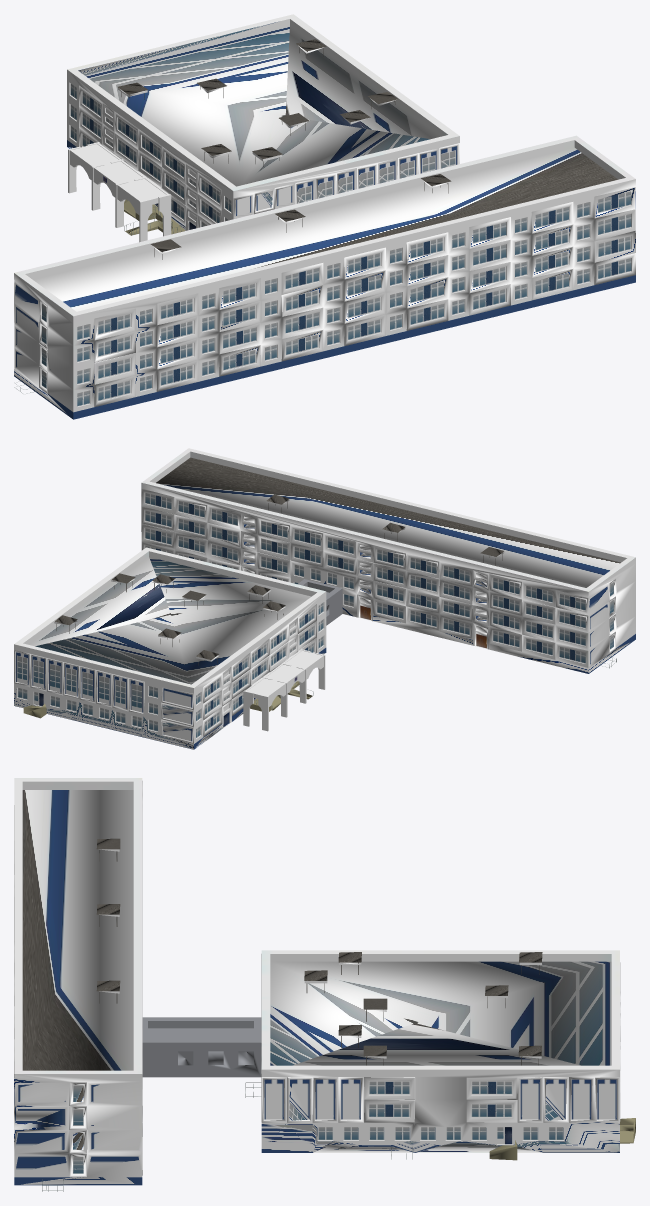
Rendered from school.lod0.glb.
3 renders of one model, top to bottom at view 1: azimuth 30°, elevation 25°; view 2: azimuth 150°, elevation 25°; view 3: azimuth 270°, elevation 25°, orthographic. The views are drawn at different scales.
Visible parts, largest first — view 1: Object_4, Object_7, Object_10, Object_9, Object_3; view 2: Object_4, Object_7, Object_10, Object_9, Object_3; view 3: Object_7, Object_4, Object_3, Object_9.
Boxes of the visible parts, left/top/right/bottom form: Object_4: left=14, top=135, right=635, bottom=419; Object_7: left=67, top=14, right=459, bottom=230; Object_10: left=68, top=142, right=171, bottom=242; Object_9: left=118, top=39, right=451, bottom=259; Object_3: left=118, top=45, right=448, bottom=254; Object_4: left=141, top=448, right=635, bottom=673; Object_7: left=14, top=547, right=326, bottom=749; Object_10: left=243, top=649, right=325, bottom=731; Object_9: left=55, top=494, right=503, bottom=668; Object_3: left=23, top=500, right=504, bottom=718; Object_7: left=261, top=950, right=620, bottom=1152; Object_4: left=14, top=778, right=142, bottom=1185; Object_3: left=99, top=849, right=635, bottom=1160; Object_9: left=96, top=838, right=542, bottom=1065.
Size of the model in its own units: 61.91 by 10.99 by 52.63.
Materials: 6 (4 with a texture image).
